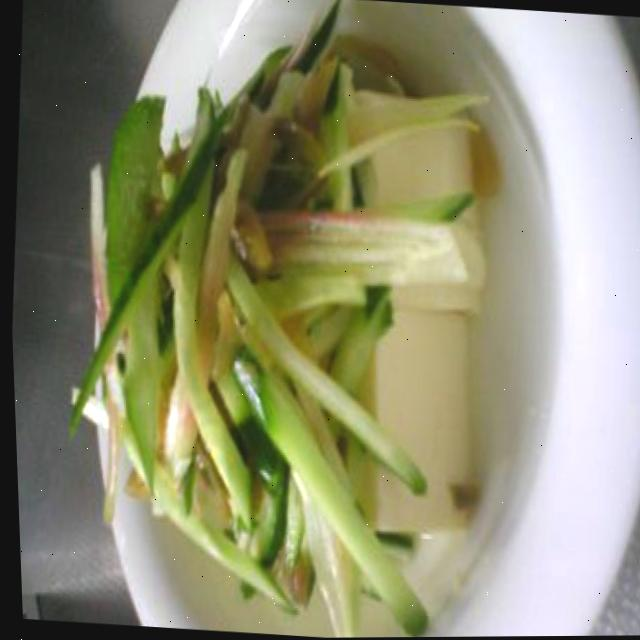豆腐料理: (35, 5, 524, 640)
